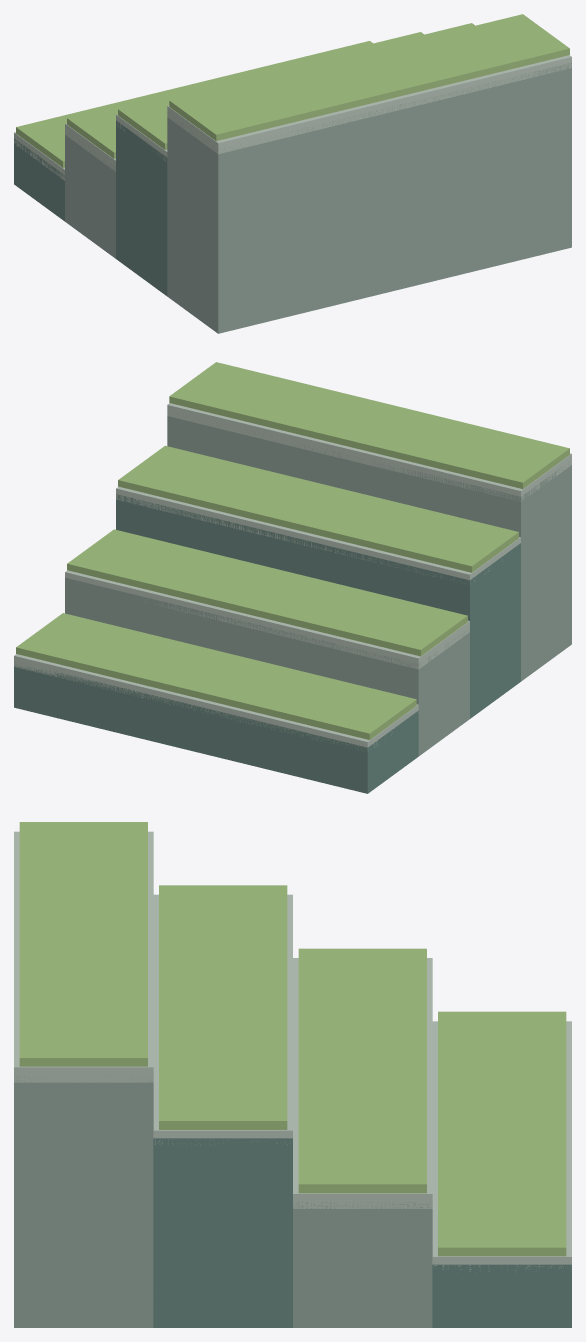
The model's file is stairs-stone-mossy.glb.
3 renders of one model, top to bottom at view 1: azimuth 30°, elevation 25°; view 2: azimuth 150°, elevation 25°; view 3: azimuth 270°, elevation 25°, orthographic. The views are drawn at different scales.
Parts seen in each view (by area): view 1: stairs-stone-kit-mossy-stone, stairs-stone-kit-mossy-top, stairs-stone-kit-mossy-shade, stairs-stone-kit-mossy-light; view 2: stairs-stone-kit-mossy-top, stairs-stone-kit-mossy-shade, stairs-stone-kit-mossy-stone, stairs-stone-kit-mossy-light; view 3: stairs-stone-kit-mossy-top, stairs-stone-kit-mossy-stone, stairs-stone-kit-mossy-shade, stairs-stone-kit-mossy-light.
Part boxes in pixels (x1=…): stairs-stone-kit-mossy-stone: x1=65, y1=62, x2=571, y2=333; stairs-stone-kit-mossy-top: x1=16, y1=14, x2=569, y2=167; stairs-stone-kit-mossy-shade: x1=14, y1=120, x2=167, y2=296; stairs-stone-kit-mossy-light: x1=14, y1=55, x2=571, y2=180; stairs-stone-kit-mossy-top: x1=16, y1=362, x2=569, y2=739; stairs-stone-kit-mossy-shade: x1=14, y1=494, x2=520, y2=793; stairs-stone-kit-mossy-stone: x1=65, y1=411, x2=571, y2=756; stairs-stone-kit-mossy-light: x1=14, y1=403, x2=571, y2=752; stairs-stone-kit-mossy-top: x1=19, y1=822, x2=566, y2=1256; stairs-stone-kit-mossy-stone: x1=14, y1=1075, x2=432, y2=1327; stairs-stone-kit-mossy-shade: x1=153, y1=1138, x2=571, y2=1327; stairs-stone-kit-mossy-light: x1=14, y1=831, x2=571, y2=1272.
Size of the model in its own units: 2 by 1.07 by 2.
